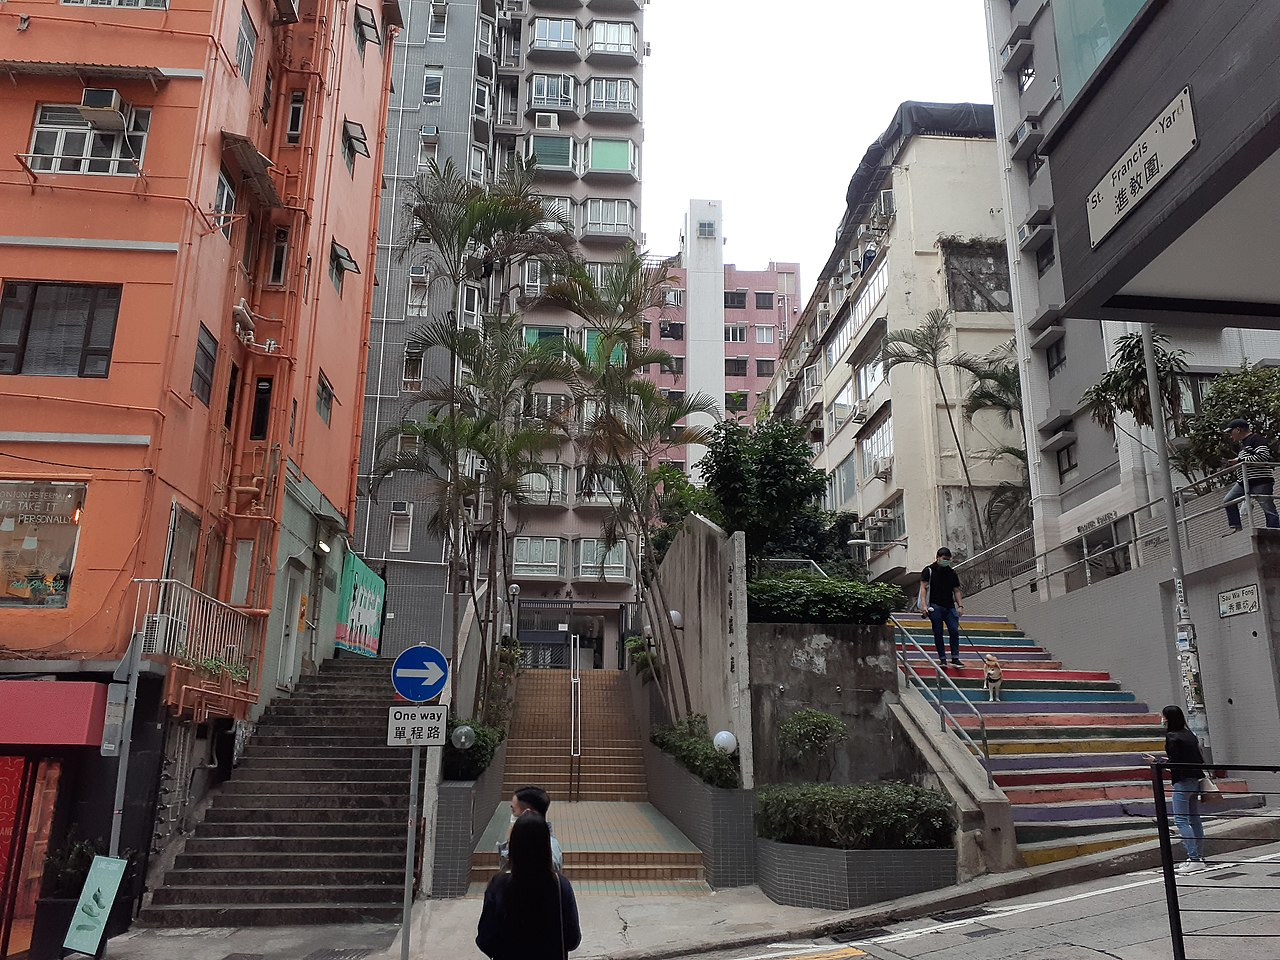Turn Right: (392, 643, 447, 703)
